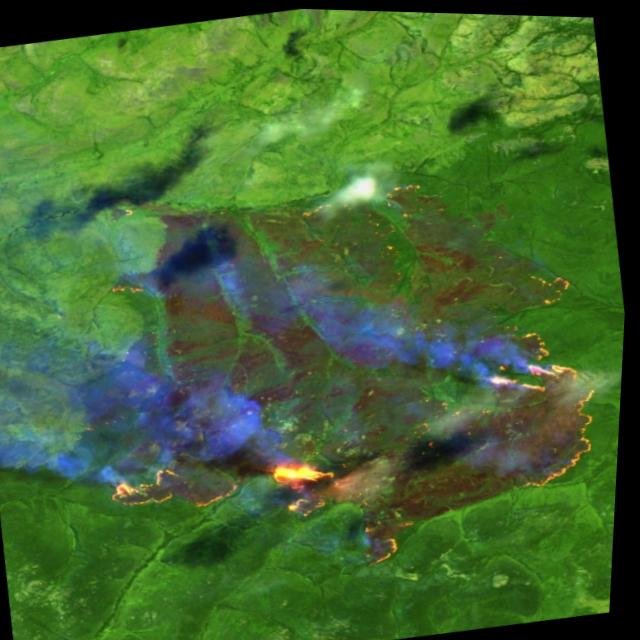fire: (53, 126, 635, 616)
